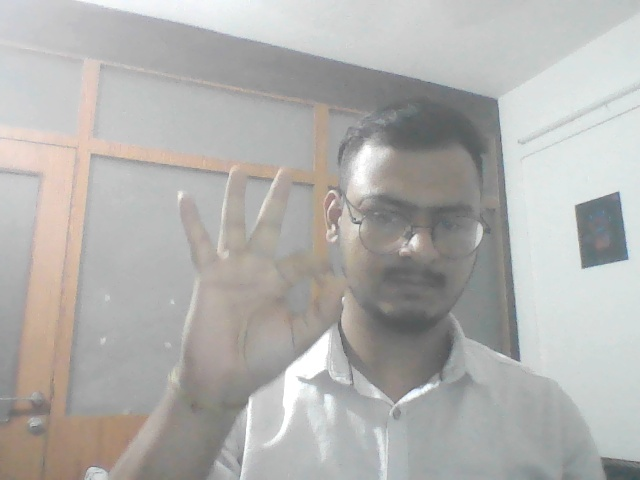OK: (149, 154, 351, 395)
